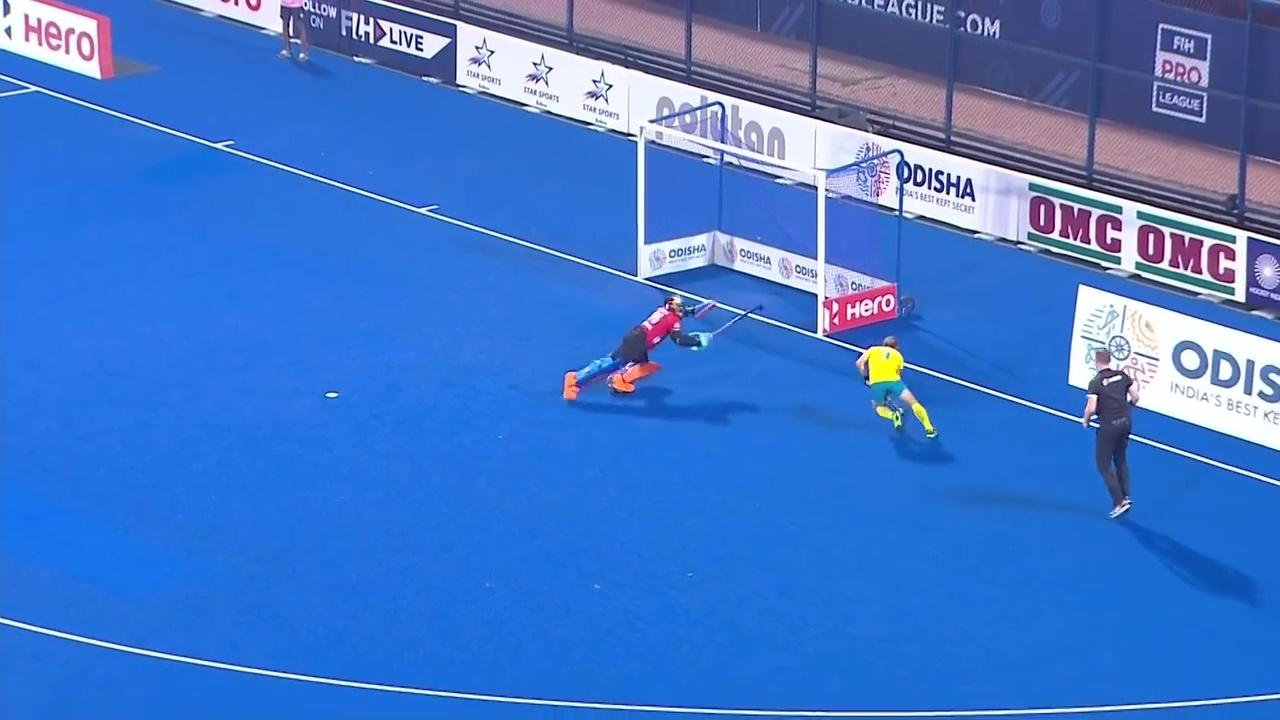ball: (894, 404, 908, 416)
